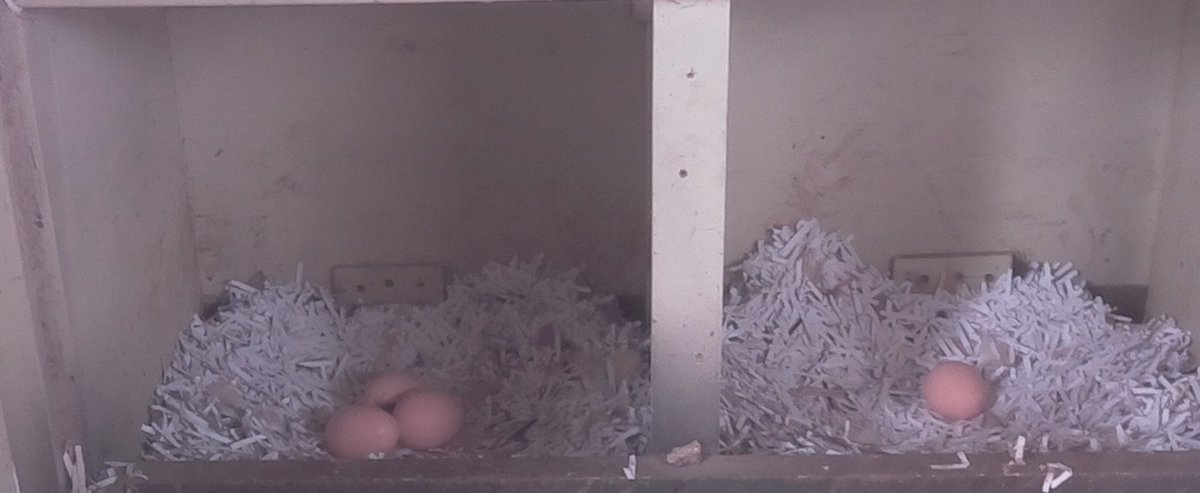egg: (391, 385, 474, 454), (918, 359, 999, 428), (320, 401, 408, 462), (357, 365, 430, 412)
